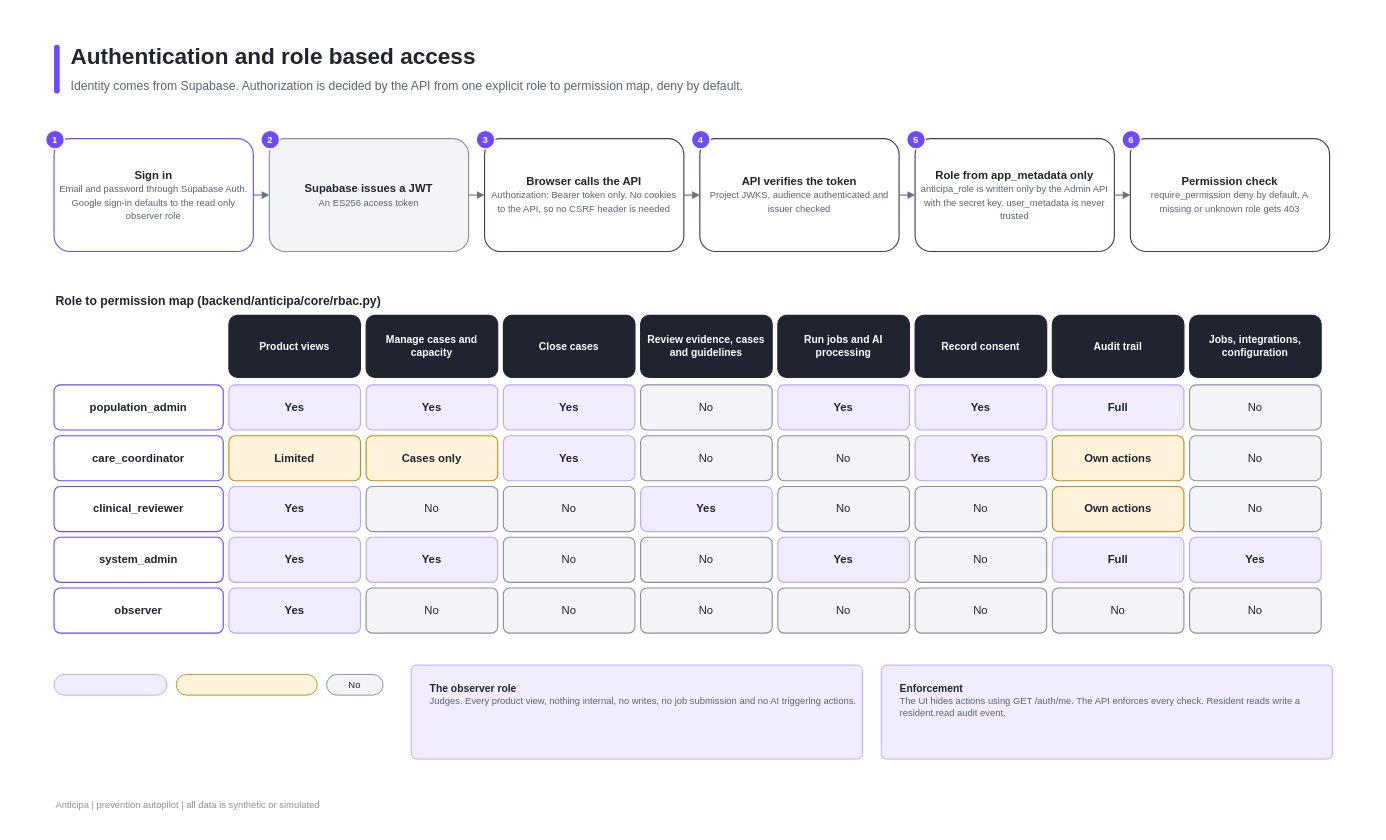
Some shapes in this 1386 by 840 pixel diagram are drawn without their labels. Each missing label, with the centre of its shape:
Limited or own only: point (246, 684)
Yes or Full: point (110, 684)
